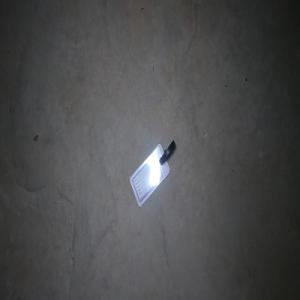LuggageTag: (128, 137, 176, 208)
